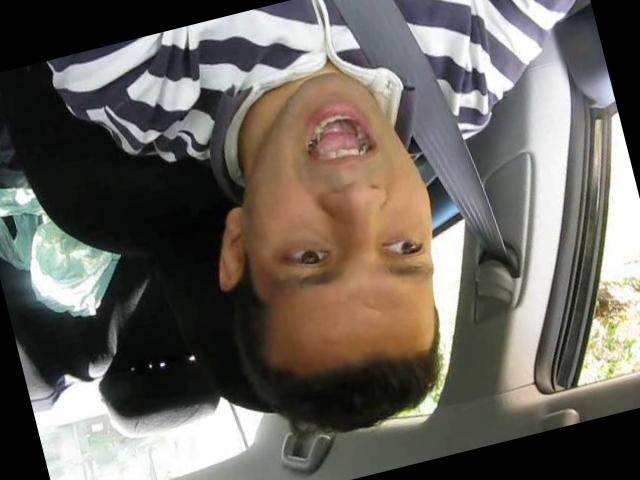eye_open: (274, 234, 338, 279), (378, 224, 434, 268)
face: (222, 58, 457, 326)
mouth_open: (292, 96, 387, 178)
